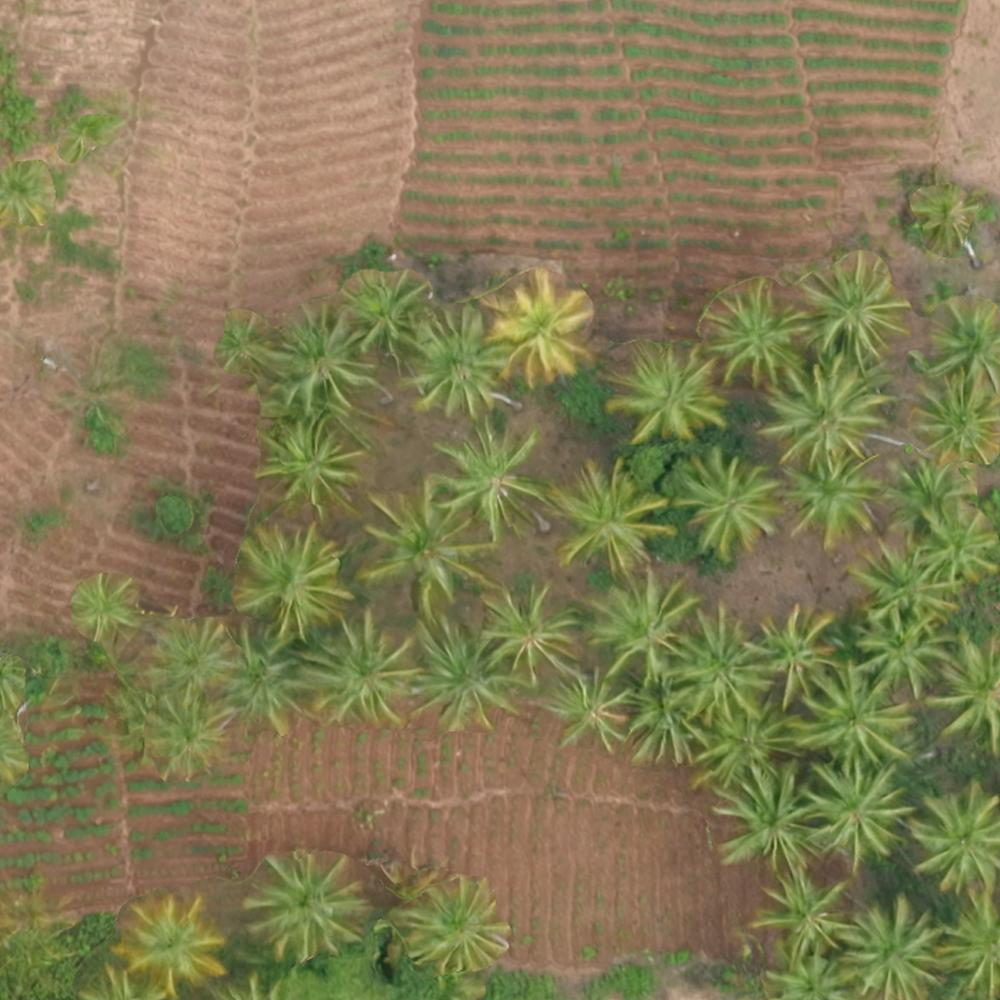not palm: (563, 901, 686, 1000), (578, 140, 683, 241), (824, 19, 930, 107), (449, 755, 547, 846), (464, 28, 563, 116), (566, 797, 665, 882), (283, 751, 375, 840), (145, 23, 234, 106), (624, 21, 708, 107), (313, 40, 397, 119), (722, 117, 804, 191), (16, 9, 94, 85), (178, 172, 257, 247)
